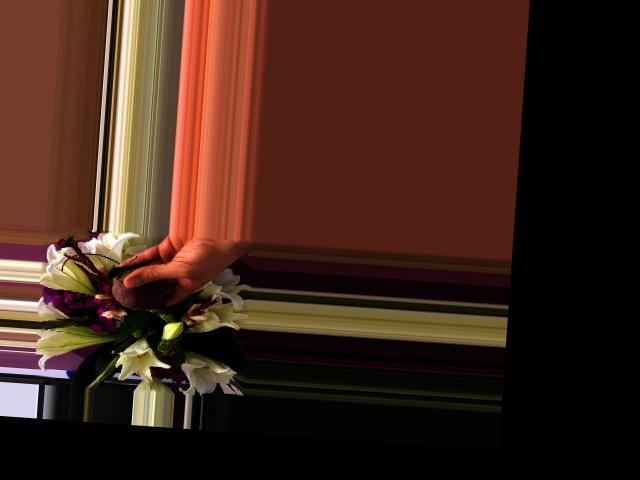beet: (104, 264, 183, 323)
